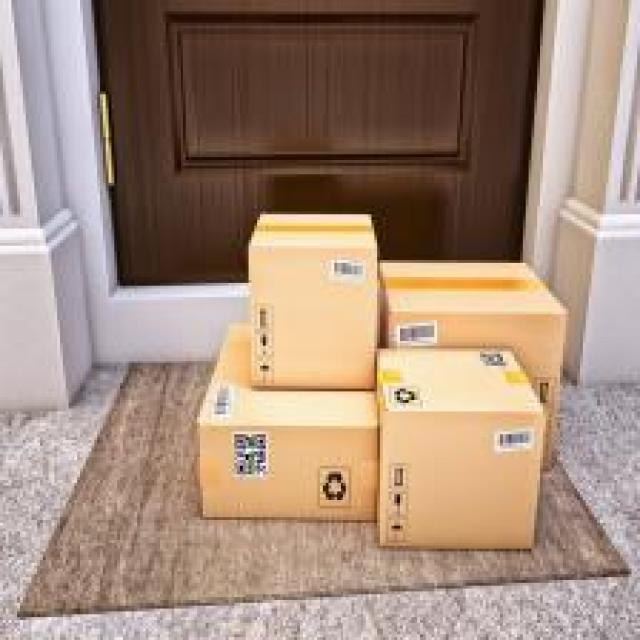box: (381, 260, 571, 471), (195, 323, 380, 524), (376, 346, 547, 550), (244, 212, 380, 391)
